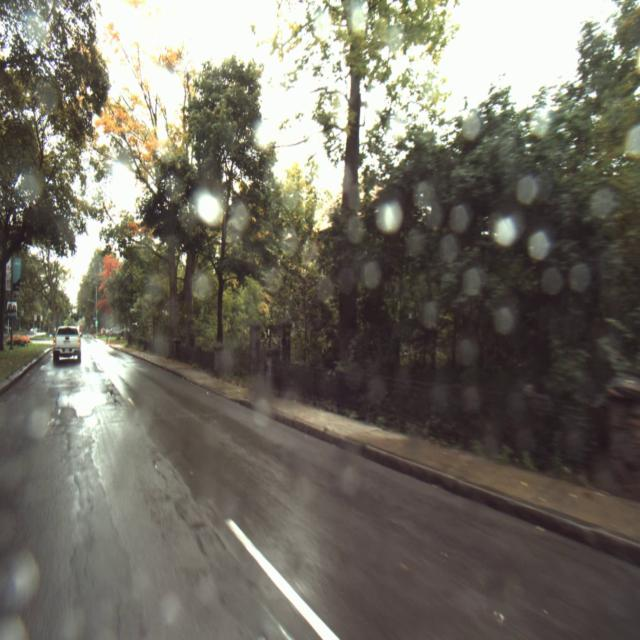car: (52, 327, 82, 366)
